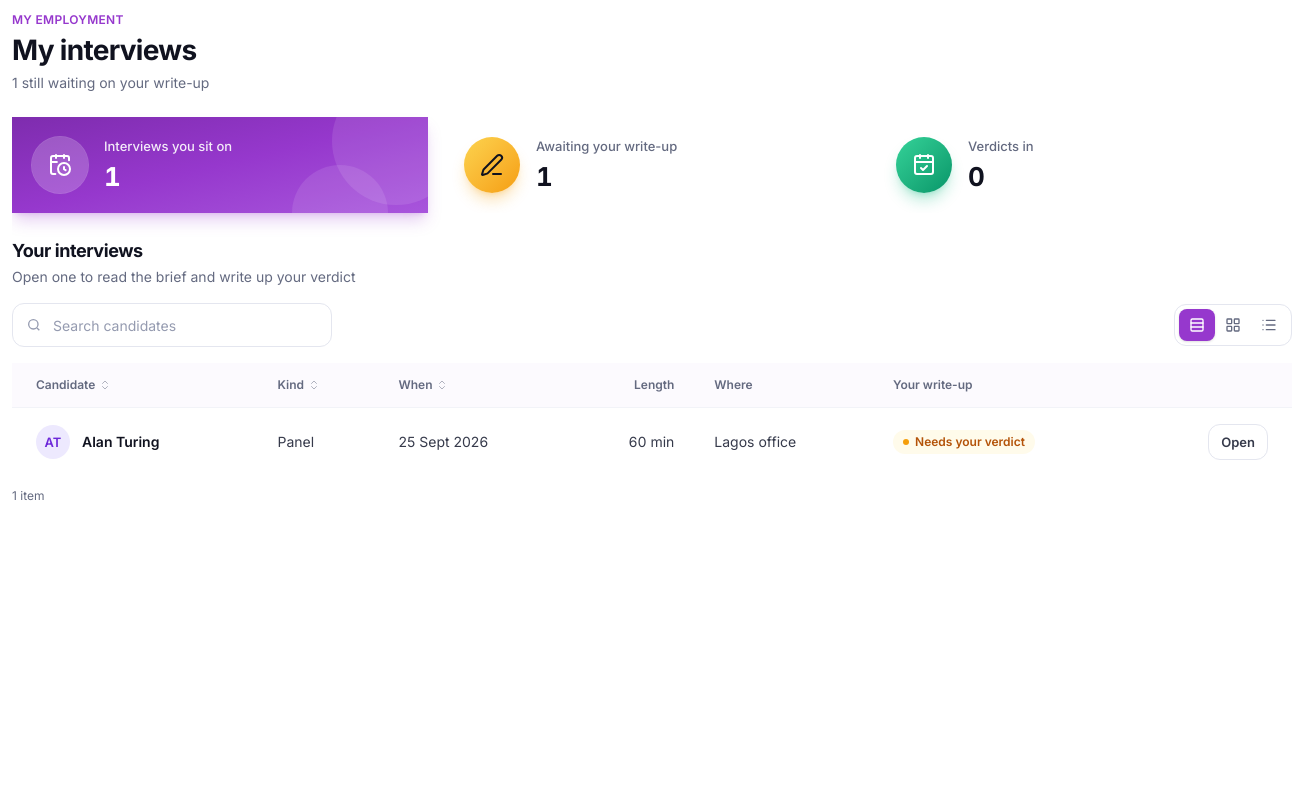
Test: MyInterviews › writing a verdict › shows a submitted verdict as fixed rather than editable
The image size is (1292, 788).
Click the button "Open".
click(1238, 442)  # box [1208,424,1268,460]
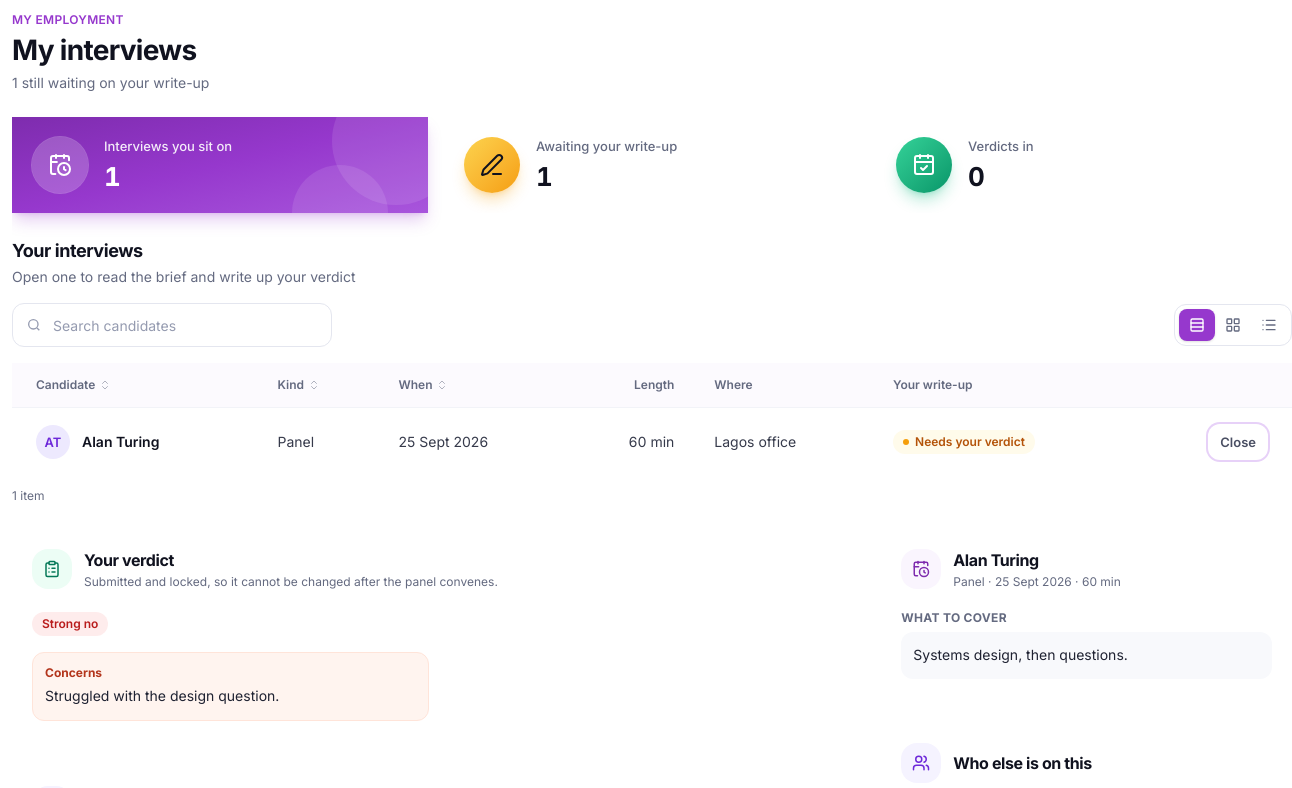
Expected: the text "cannot be changed after the panel convenes" is shown, [84,574,498,589]
